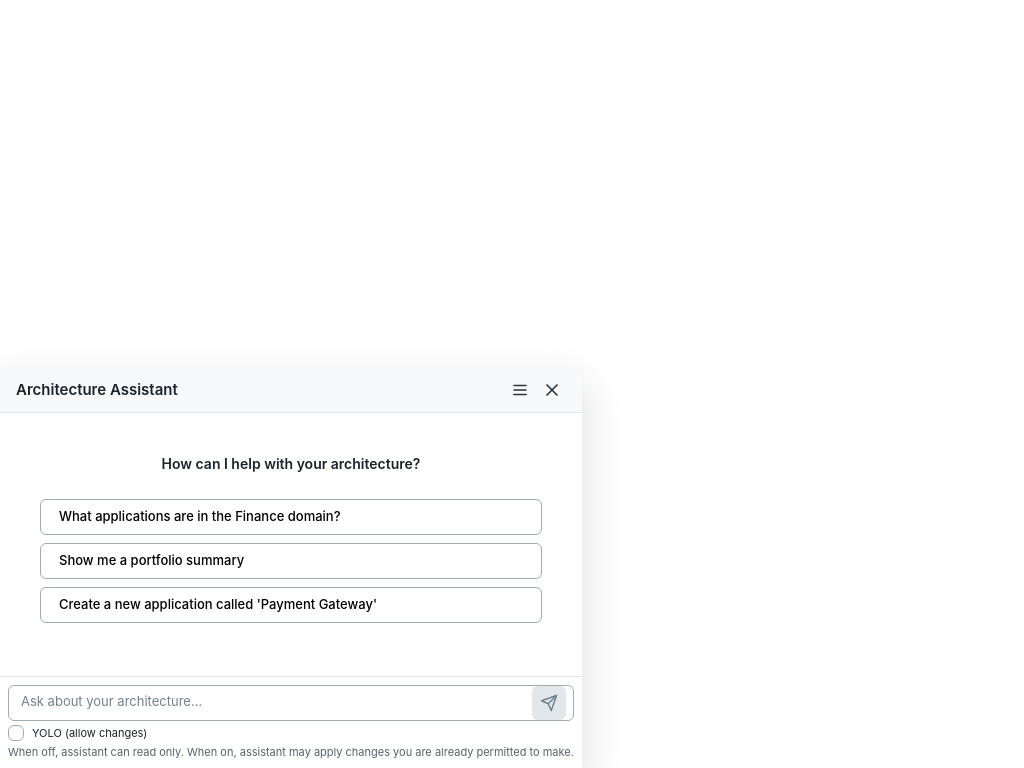
Scenario: ChatPanel › should clear messages when starting a new conversation
Click the button named "Conversation history" at coordinates (520, 390), box [506,376,534,404]
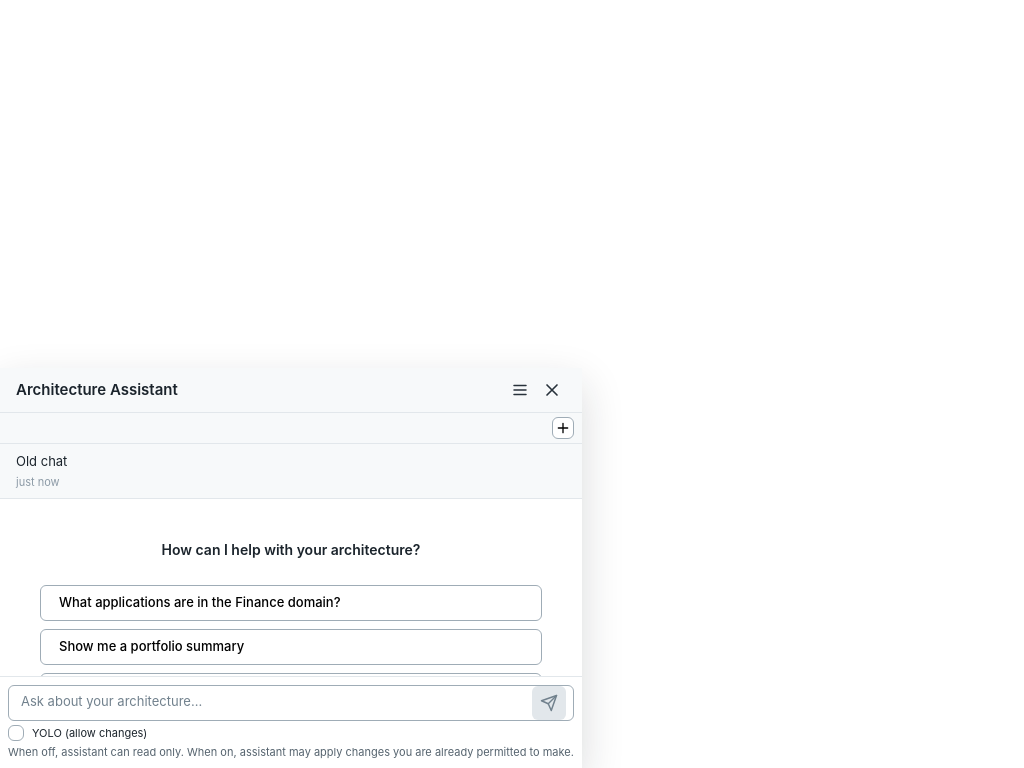
Now the text "Old chat" is shown
Click the text "Old chat" at coordinates (42, 462), box [16,452,67,472]
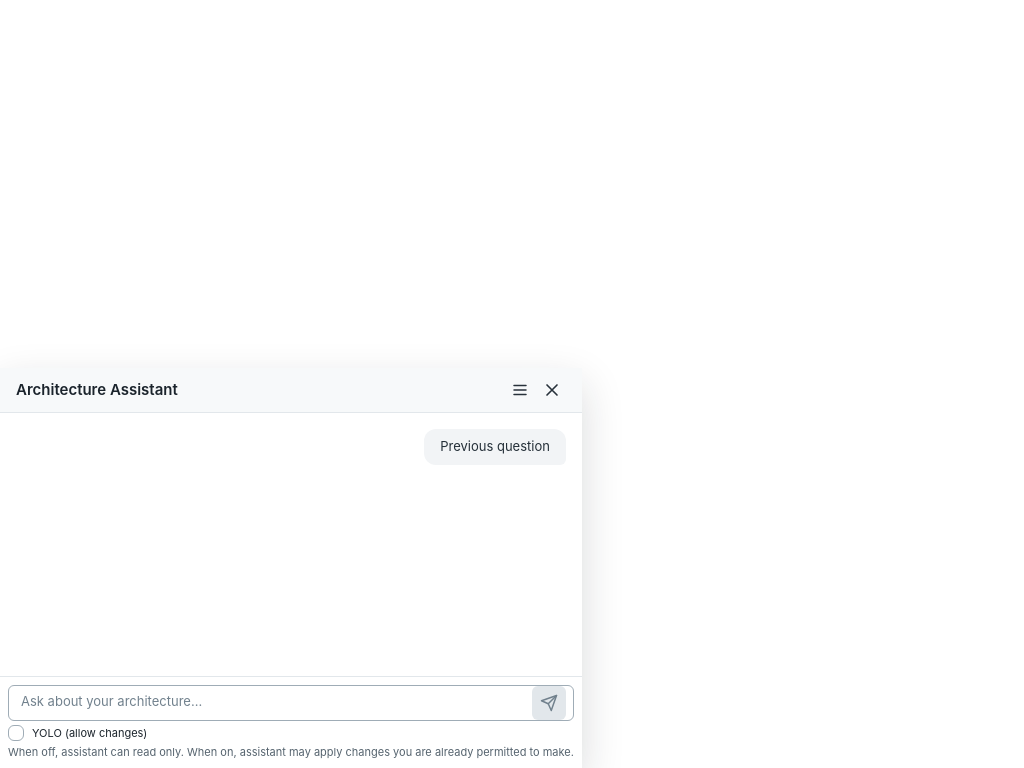
Now the text "Previous question" is shown, box [440,437,550,456]
Click the button named "Conversation history" at coordinates (520, 390), box [506,376,534,404]
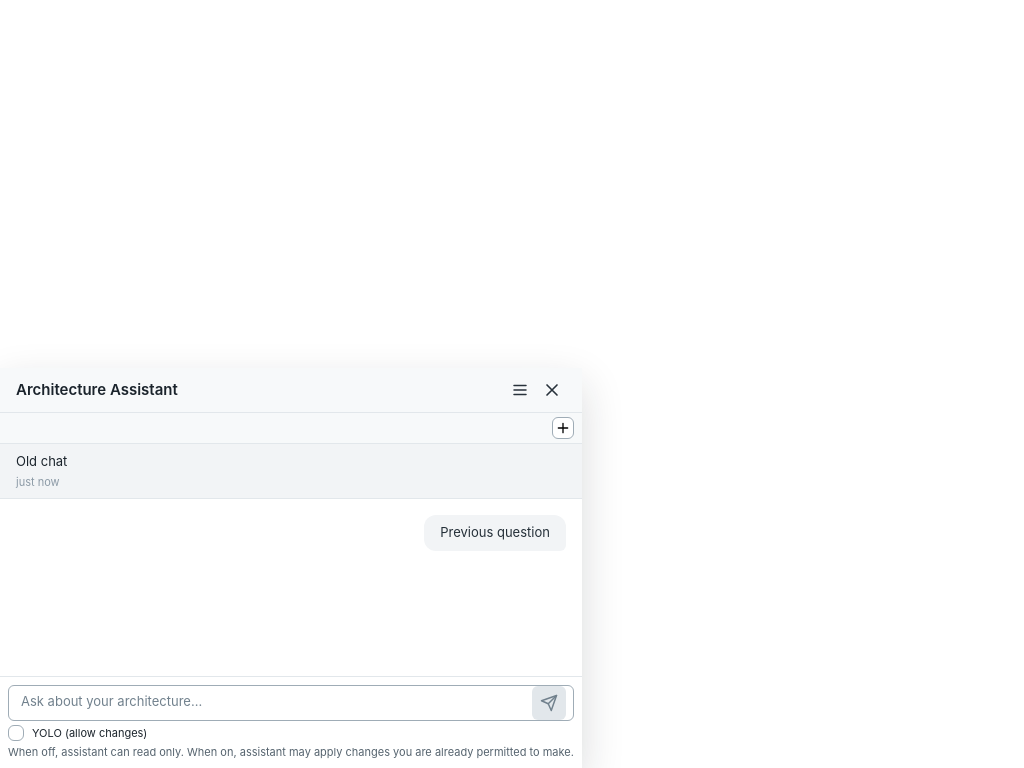
Click the button named "New conversation" at coordinates (563, 428), box [552,417,574,439]
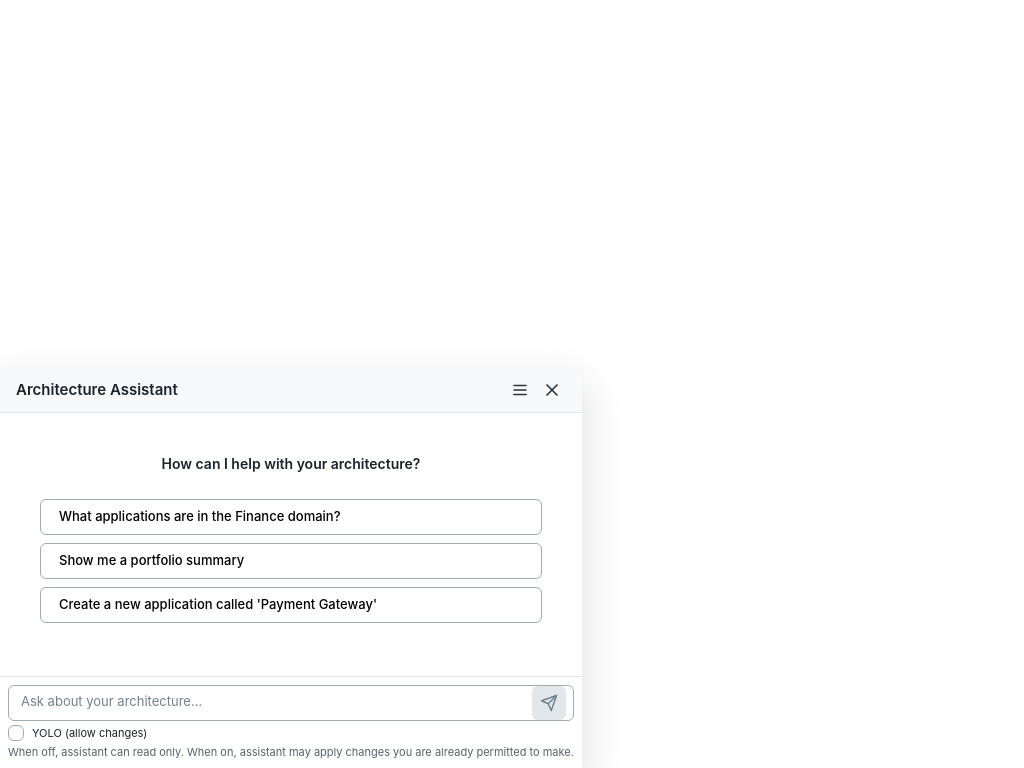
Now the text "Previous question" is gone
Now the text "How can I help with your architecture?" is shown, box [162,453,420,475]
